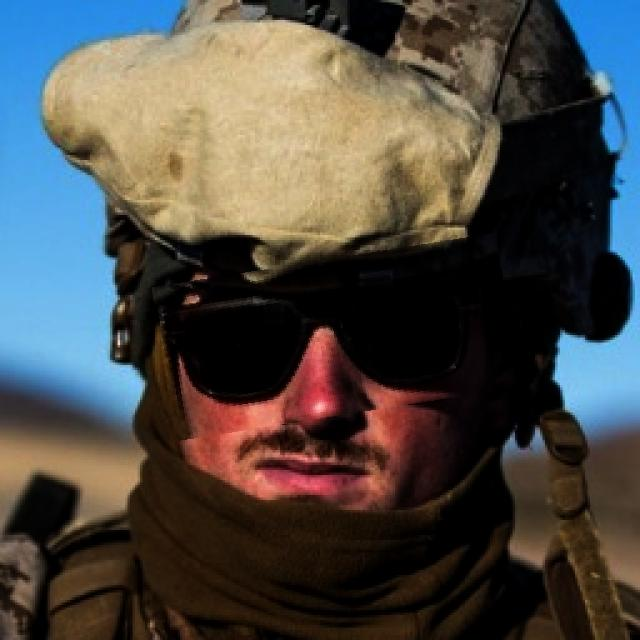glasses: (157, 246, 516, 428)
